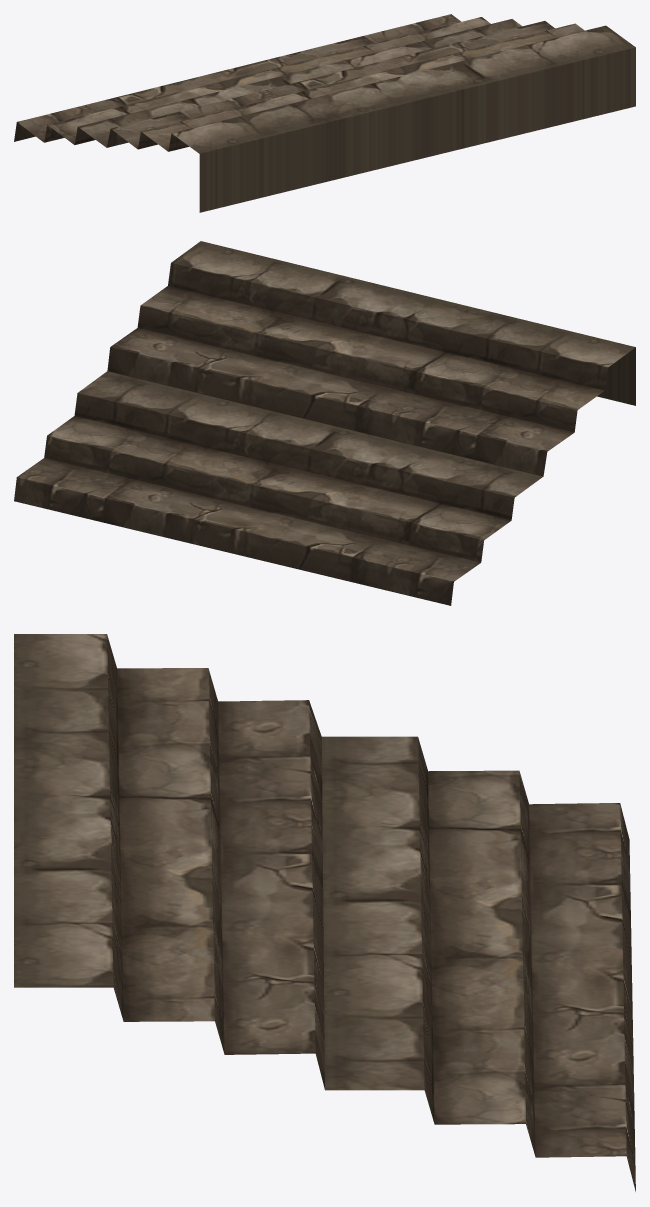
File: stair_3.FBX
3 renders of one model, top to bottom at view 1: azimuth 30°, elevation 25°; view 2: azimuth 150°, elevation 25°; view 3: azimuth 270°, elevation 25°, orthographic. The views are drawn at different scales.
Visible parts, largest first — view 1: stair_3; view 2: stair_3; view 3: stair_3.
Boxes of the visible parts, bbox=[...] form: stair_3: bbox=[14, 14, 635, 212]; stair_3: bbox=[14, 241, 635, 605]; stair_3: bbox=[14, 634, 635, 1191].
Size of the model in its own units: 4.25 by 1.15 by 3.16.
1 material, 1 textured.
